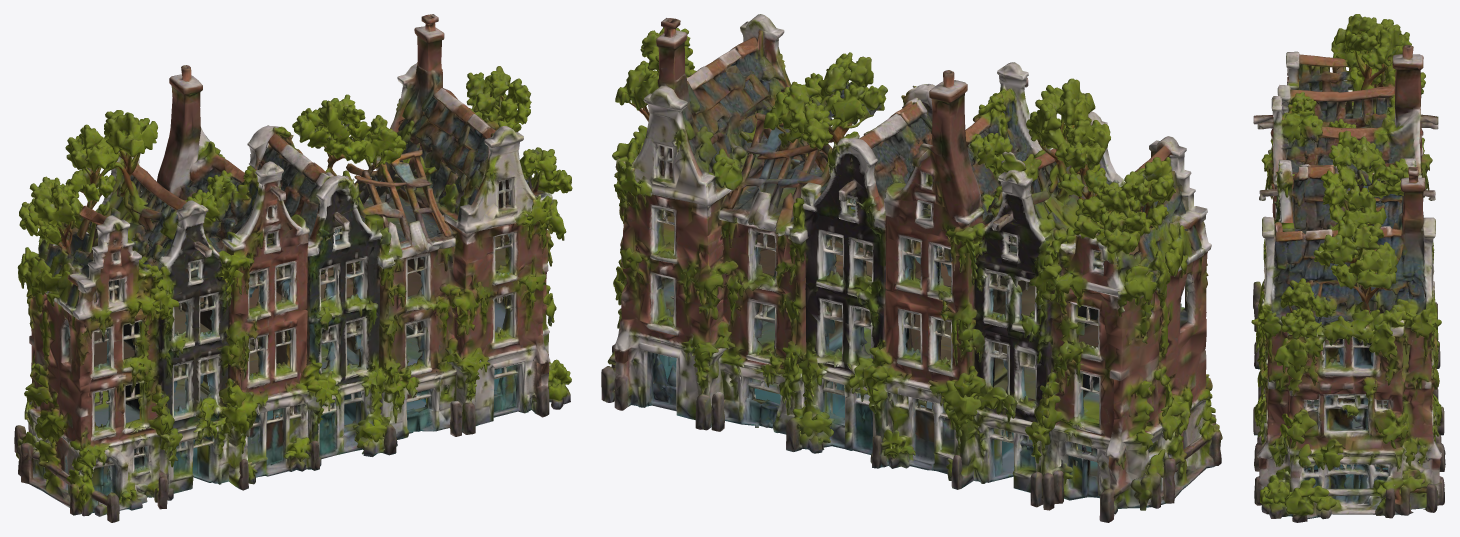
Rendered from cityRowHi.glb.
3 views of the same model, side by side, from view 1: azimuth 30°, elevation 25°; view 2: azimuth 150°, elevation 25°; view 3: azimuth 270°, elevation 25° (orthographic). The views are drawn at different scales.
Size of the model in its own units: 1.89 by 1.27 by 0.6731.
1 material, 1 textured.
